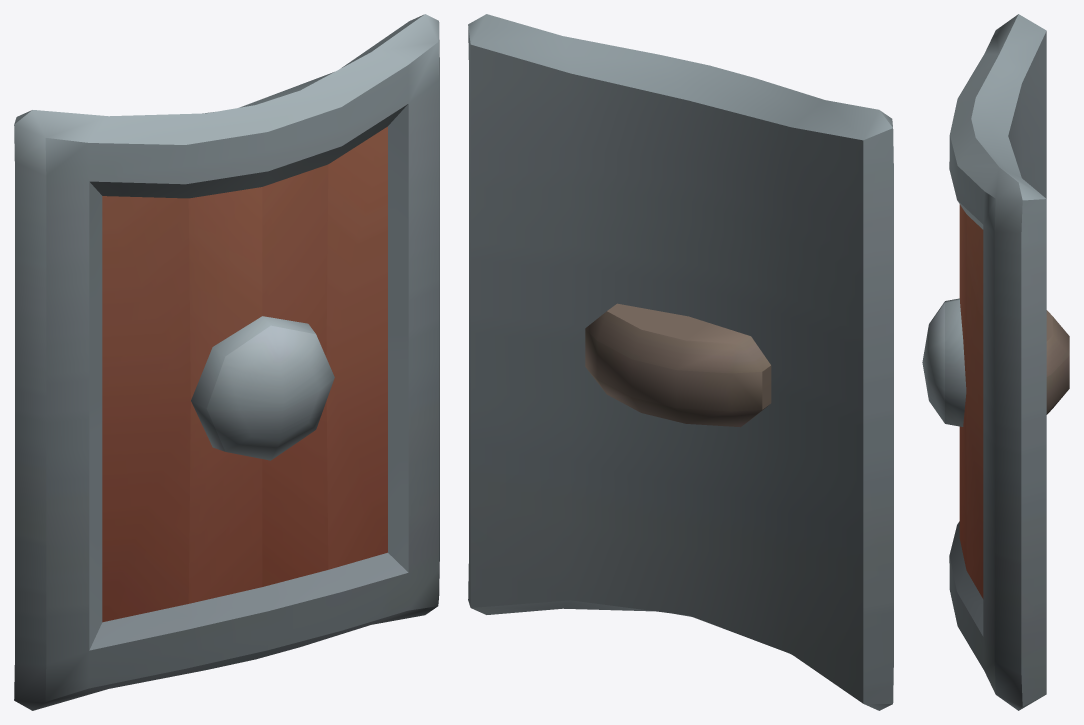
Rendered from shield_square.glb.
3 views of the same model, side by side, from view 1: azimuth 30°, elevation 25°; view 2: azimuth 150°, elevation 25°; view 3: azimuth 270°, elevation 25° (orthographic). The views are drawn at different scales.
Visible parts, largest first — view 1: shield_square; view 2: shield_square; view 3: shield_square.
Part boxes in pixels (box(x1,y1,x2,y2)): shield_square: box(14, 14, 439, 710); shield_square: box(468, 14, 893, 710); shield_square: box(922, 14, 1069, 710).
Bounding box in the file's own units: 0.8825 × 1.19 × 0.301.
Materials: 1 (1 with a texture image).
